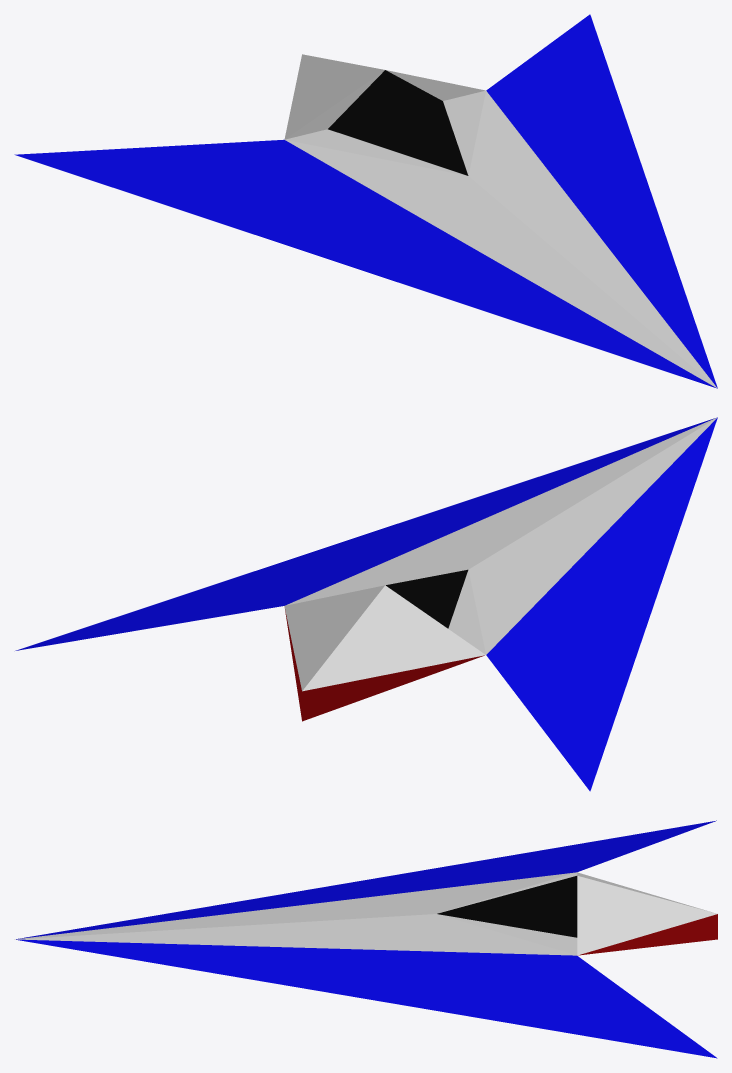
Rendered from Nave.fbx.
3 views of the same model, one above another, from view 1: azimuth 30°, elevation 25°; view 2: azimuth 150°, elevation 25°; view 3: azimuth 270°, elevation 25° (orthographic). The views are drawn at different scales.
Visible parts, largest first — view 1: Aircraft; view 2: Aircraft; view 3: Aircraft.
Part boxes in pixels (bbox=[...]): Aircraft: bbox=[14, 14, 717, 388]; Aircraft: bbox=[15, 417, 717, 791]; Aircraft: bbox=[14, 820, 717, 1058].
Bounding box in the file's own units: 400 × 50 × 500.
